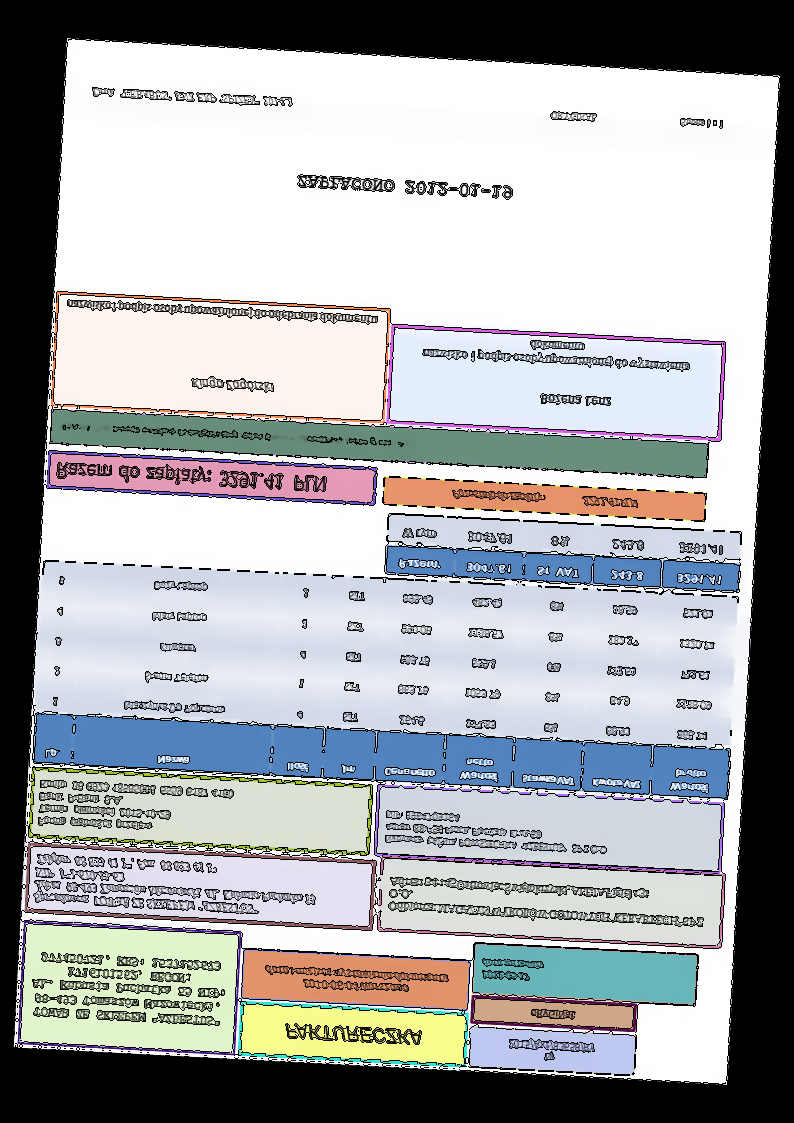Table: (32, 560, 739, 801), (384, 513, 742, 594)
TextBox: (32, 853, 318, 921), (386, 873, 706, 930), (28, 951, 227, 1028), (36, 777, 236, 837), (58, 419, 420, 452), (381, 807, 612, 858), (422, 333, 691, 375), (64, 297, 377, 329), (55, 460, 328, 496), (262, 963, 451, 997), (296, 173, 514, 202), (90, 84, 295, 110), (450, 485, 640, 512), (283, 1021, 424, 1049), (549, 109, 725, 131), (506, 1037, 597, 1066), (189, 374, 275, 397), (480, 957, 545, 984), (539, 391, 614, 410), (529, 1007, 577, 1023)
